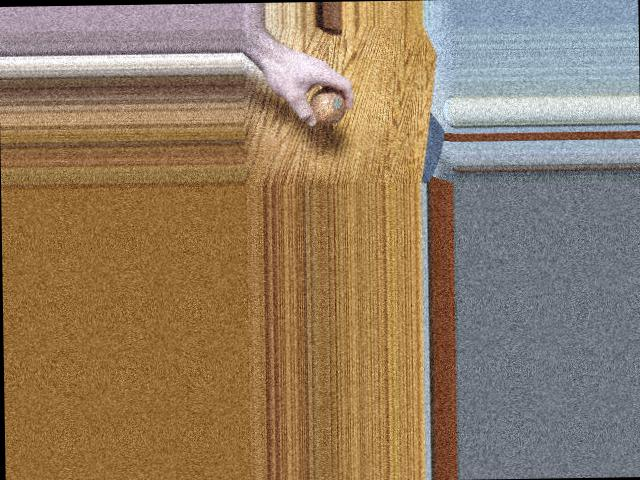onion: (304, 82, 348, 123)
